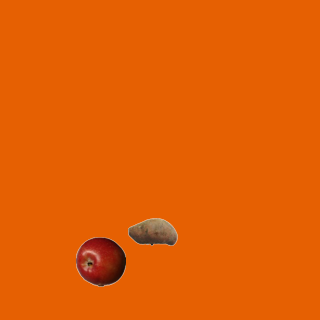Apple Braeburn: (75, 236, 125, 286)
Potato Sweet: (127, 206, 177, 256)
